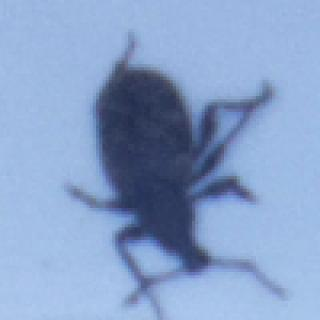bvw: (61, 26, 296, 318)
